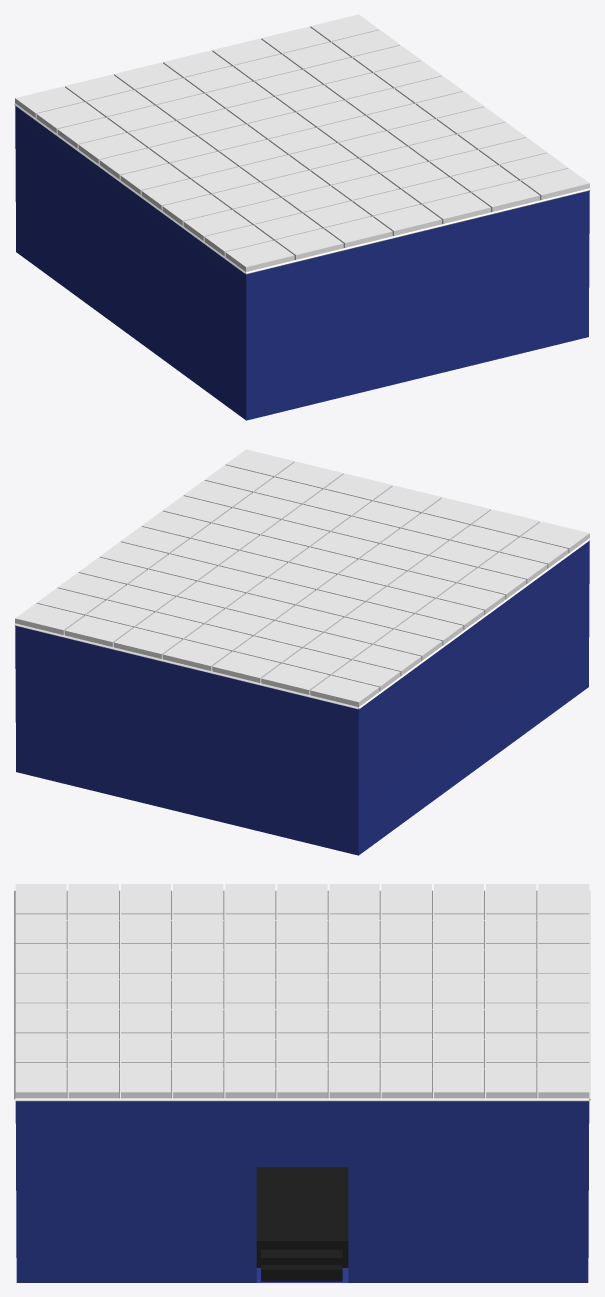
File: painting_display_room.glb
3 views of the same model, one above another, from view 1: azimuth 30°, elevation 25°; view 2: azimuth 150°, elevation 25°; view 3: azimuth 270°, elevation 25° (orthographic). The views are drawn at different scales.
Parts seen in each view (by area): view 1: Box001_0, Plane004_21, Plane003_20; view 2: Box001_0, Plane004_21, Plane003_20; view 3: Plane004_21, Box001_0, Object_24, Plane003_20.
Boxes of the visible parts, left/top/right/bottom form: Box001_0: left=15, top=105, right=589, bottom=420; Plane004_21: left=15, top=14, right=589, bottom=274; Plane003_20: left=14, top=103, right=590, bottom=274; Box001_0: left=15, top=540, right=589, bottom=855; Plane004_21: left=15, top=449, right=589, bottom=709; Plane003_20: left=14, top=538, right=590, bottom=709; Plane004_21: left=15, top=884, right=589, bottom=1098; Box001_0: left=15, top=1101, right=589, bottom=1282; Object_24: left=256, top=1167, right=348, bottom=1281; Plane003_20: left=14, top=890, right=590, bottom=1101.
Size of the model in its own units: 13.76 by 5.85 by 16.
